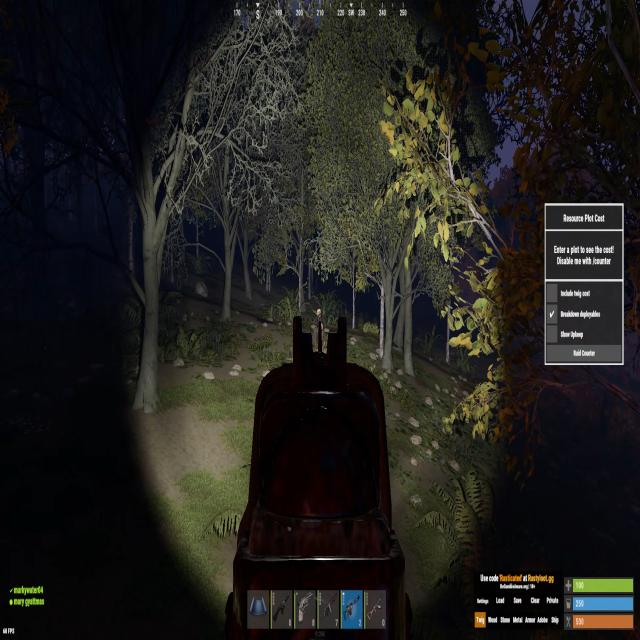Player: (314, 308, 325, 346)
